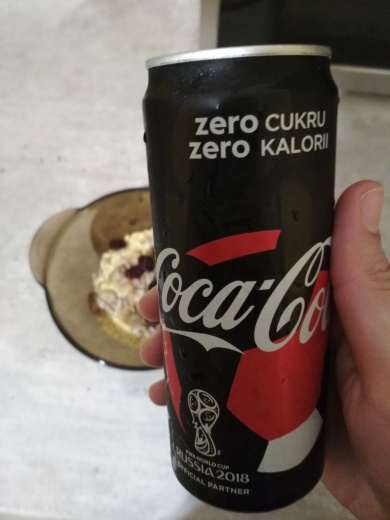colazero: (125, 39, 347, 511)
